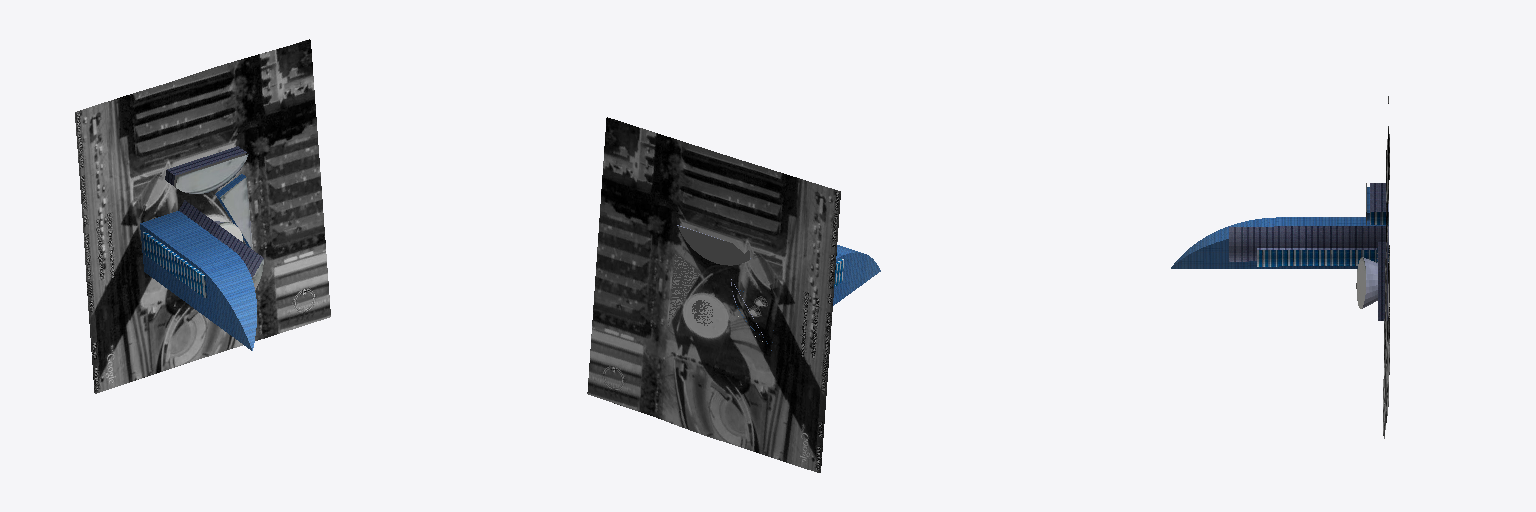
3 renders of one model, left to right at view 1: azimuth 30°, elevation 25°; view 2: azimuth 150°, elevation 25°; view 3: azimuth 270°, elevation 25°, orthographic.
Visible parts, largest first — view 1: Google Earth Snapshot, Google Earth Terrain, antel; view 2: Google Earth Terrain, Google Earth Snapshot, antel; view 3: antel, Google Earth Terrain.
Boxes of the visible parts, <box> form: Google Earth Snapshot: <box>75,39,309,393</box>; Google Earth Terrain: <box>75,40,330,392</box>; antel: <box>140,146,263,350</box>; Google Earth Terrain: <box>607,117,839,472</box>; Google Earth Snapshot: <box>587,118,840,472</box>; antel: <box>668,225,880,350</box>; antel: <box>1171,183,1388,320</box>; Google Earth Terrain: <box>1383,96,1389,438</box>.
Bounding box in the file's own units: 831554 × 947434 × 623297.
14 materials, 12 textured.